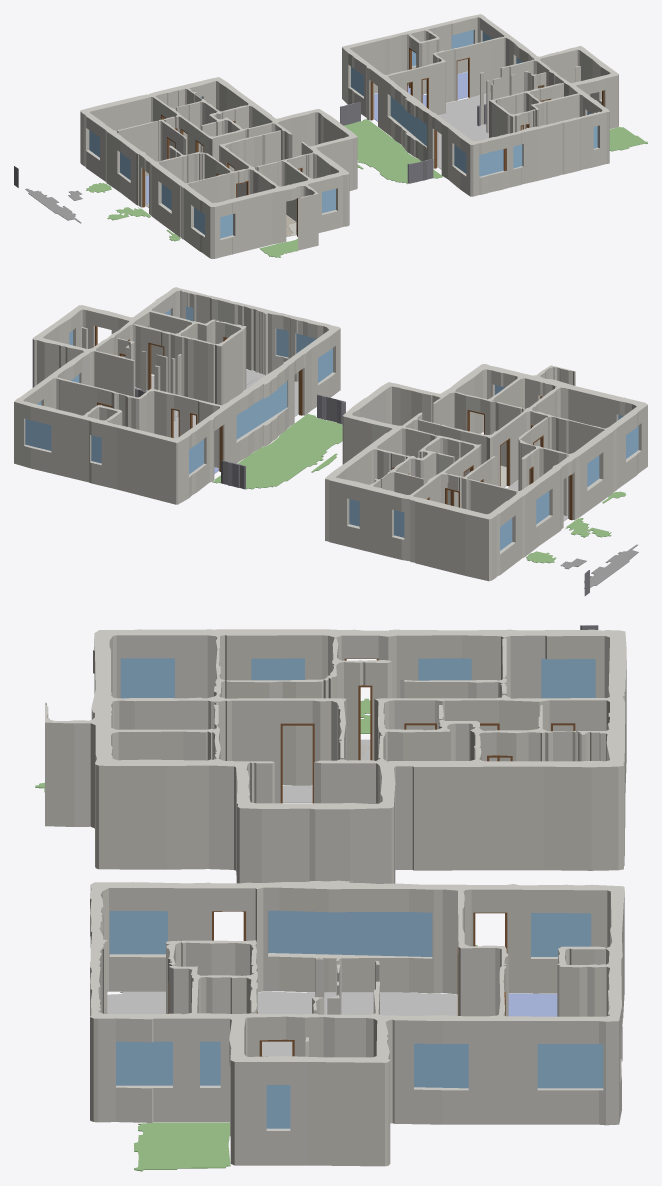
The picture shows the model from 3 angles, top to bottom: view 1: azimuth 30°, elevation 25°; view 2: azimuth 150°, elevation 25°; view 3: azimuth 270°, elevation 25°; orthographic projection. The views are drawn at different scales.
Parts seen in each view (by area): view 1: walls, floor_5_Outdoor, floor_10_Living_Room, railings, window_36, floor_1_Outdoor, window_45, floor_32_Garage, floor_14_Bed_Room, floor_0_Outdoor; view 2: walls, floor_5_Outdoor, railings, window_36, window_29, floor_32_Garage; view 3: walls, window_36, floor_10_Living_Room, floor_1_Outdoor, window_31, window_42, window_41, window_35, window_33, window_40, window_32, window_34 (+4 smaller).
Part boxes in pixels (left/top/right/bottom): walls: left=80, top=14, right=618, bottom=258; floor_5_Outdoor: left=344, top=119, right=442, bottom=183; floor_10_Living_Room: left=438, top=93, right=490, bottom=169; railings: left=14, top=102, right=486, bottom=187; window_36: left=390, top=96, right=426, bottom=146; floor_1_Outdoor: left=609, top=127, right=647, bottom=151; window_45: left=479, top=149, right=503, bottom=176; floor_32_Garage: left=25, top=188, right=81, bottom=223; floor_14_Bed_Room: left=374, top=72, right=467, bottom=121; floor_0_Outdoor: left=259, top=238, right=297, bottom=257; walls: left=14, top=287, right=647, bottom=581; floor_5_Outdoor: left=212, top=414, right=342, bottom=489; railings: left=135, top=388, right=589, bottom=595; window_36: left=236, top=381, right=287, bottom=439; window_29: left=25, top=419, right=51, bottom=450; floor_32_Garage: left=584, top=544, right=638, bottom=588; walls: left=45, top=629, right=626, bottom=1166; window_36: left=268, top=910, right=432, bottom=956; floor_10_Living_Room: left=107, top=991, right=457, bottom=1056; floor_1_Outdoor: left=134, top=1122, right=230, bottom=1171; window_31: left=537, top=1044, right=603, bottom=1088; window_42: left=109, top=911, right=167, bottom=954; window_41: left=116, top=1041, right=172, bottom=1085; window_35: left=414, top=1043, right=468, bottom=1088; window_33: left=531, top=913, right=591, bottom=956; window_40: left=120, top=658, right=174, bottom=698; window_32: left=541, top=658, right=595, bottom=698; window_34: left=418, top=658, right=471, bottom=680.
Bounding box in the file's own units: 28.34 × 2.72 × 13.97.
